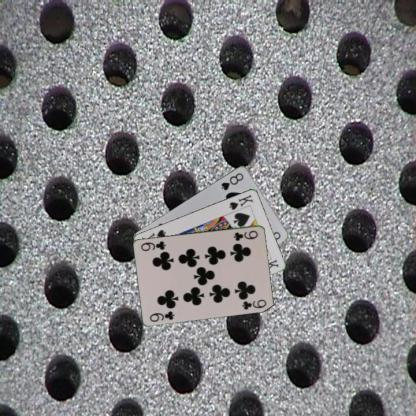8s: (218, 170, 244, 192)
9c: (231, 228, 260, 242), (147, 309, 176, 323)
Ks: (227, 192, 254, 211)
